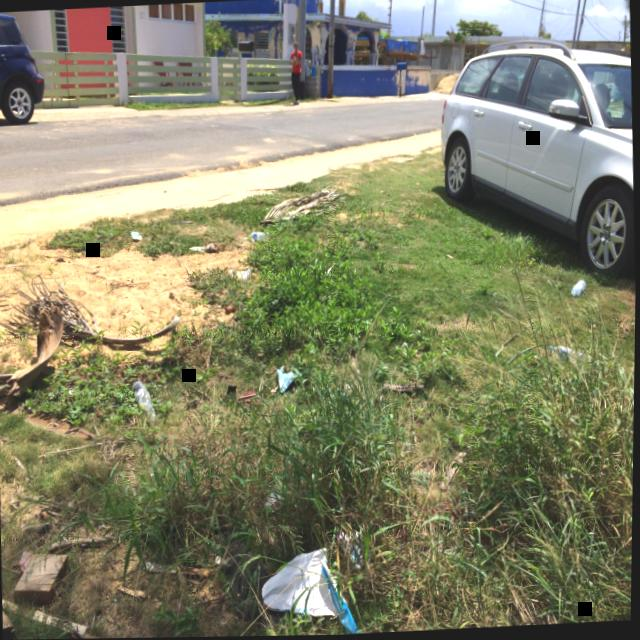Clear plastic bottle: (549, 347, 583, 360), (571, 281, 585, 297), (247, 231, 269, 240)
Disposable plastic cup: (230, 268, 251, 283)
Glass bottle: (131, 379, 156, 418)
Plastic bottle cap: (572, 292, 575, 297)
Plastic film: (262, 548, 358, 635)
Unlabeled litter: (338, 531, 362, 567), (277, 368, 298, 392), (20, 551, 34, 571), (188, 246, 205, 251), (130, 231, 141, 238)
